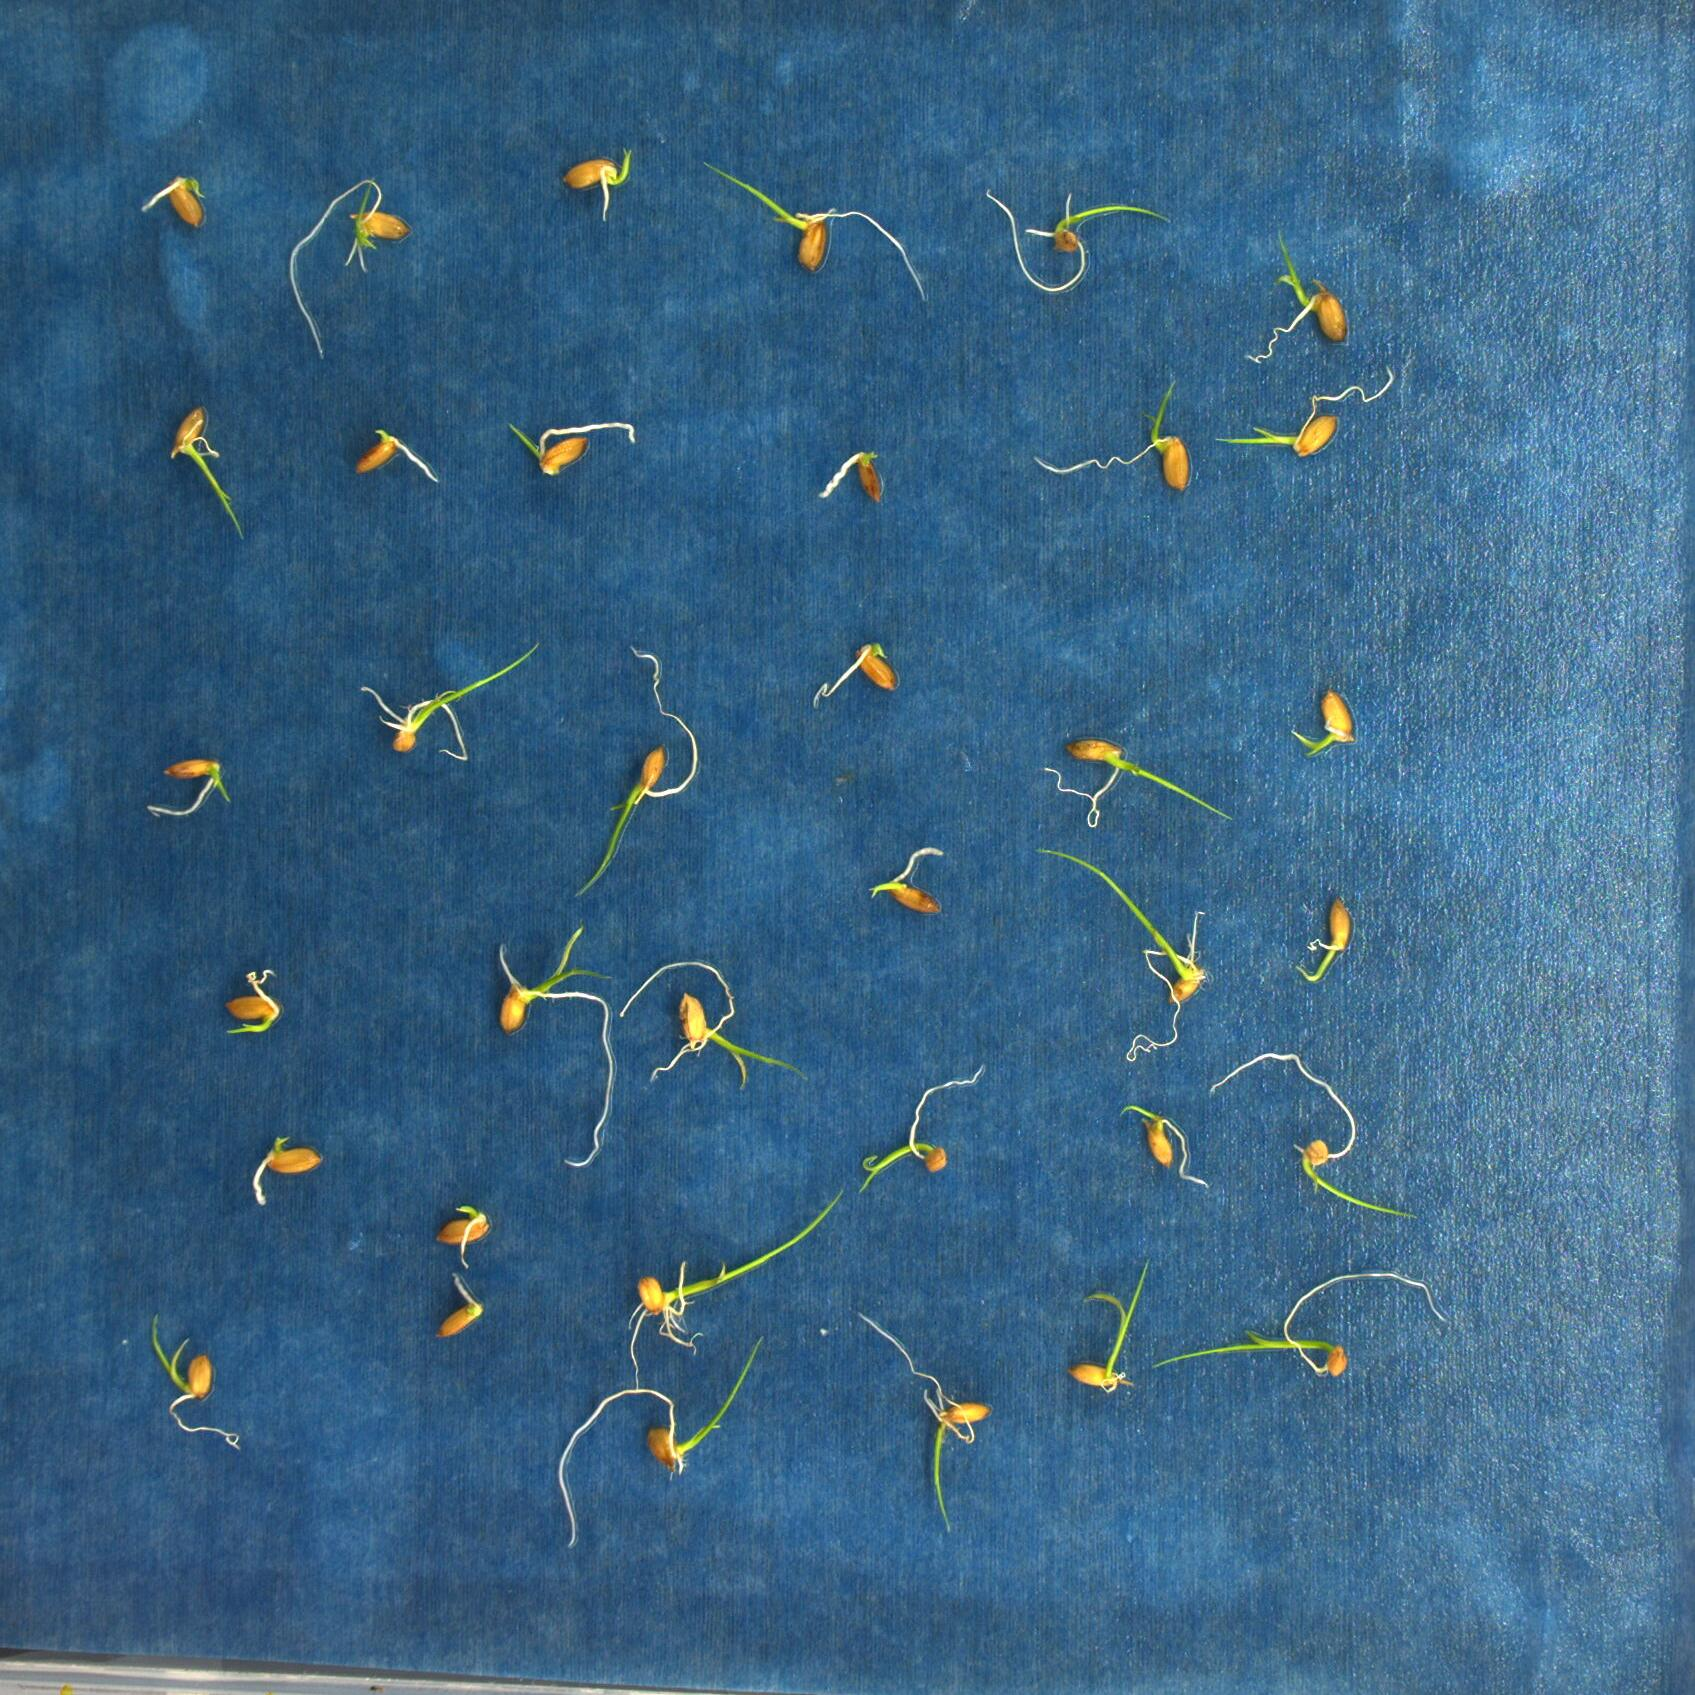not sprout: (810, 640, 900, 716), (251, 1136, 326, 1208), (355, 427, 439, 484), (820, 449, 885, 504), (438, 1268, 484, 1343), (140, 172, 205, 225)
sprout: (556, 1332, 767, 1548), (629, 1187, 843, 1391), (1034, 847, 1206, 1060), (1212, 1049, 1420, 1222), (571, 646, 700, 900), (702, 161, 927, 304), (1155, 1273, 1444, 1377), (855, 1315, 989, 1532), (500, 920, 613, 1167), (621, 961, 809, 1090), (289, 175, 411, 362), (362, 643, 546, 761), (986, 186, 1172, 296), (1032, 377, 1197, 494), (1215, 368, 1400, 463), (1045, 736, 1236, 827), (860, 1063, 987, 1192), (1250, 233, 1347, 363), (152, 1316, 244, 1450), (1068, 1257, 1149, 1395), (169, 405, 248, 543), (1118, 1104, 1209, 1189), (508, 421, 636, 477), (144, 756, 231, 823), (560, 147, 632, 225), (868, 847, 944, 916), (1296, 899, 1352, 989), (1291, 685, 1355, 756), (224, 967, 279, 1040), (436, 1203, 490, 1268)
